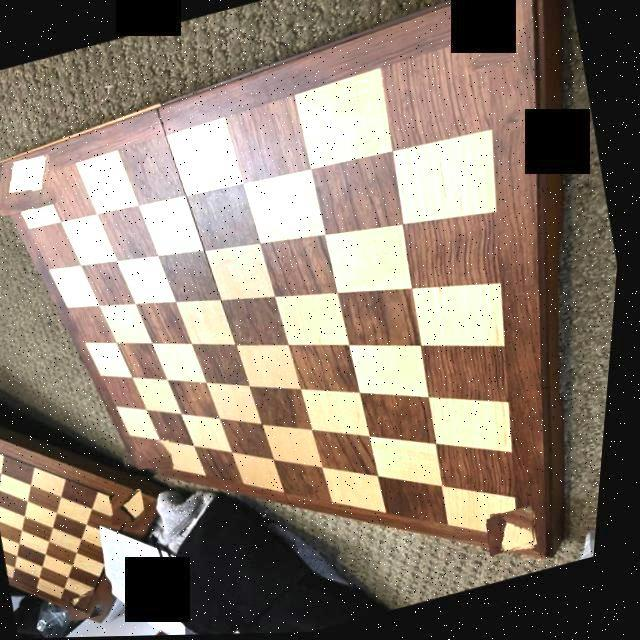chess-table-corners: (0, 151, 64, 217), (456, 14, 520, 76), (490, 506, 551, 560), (128, 440, 184, 484), (115, 488, 156, 526), (74, 588, 114, 622)
